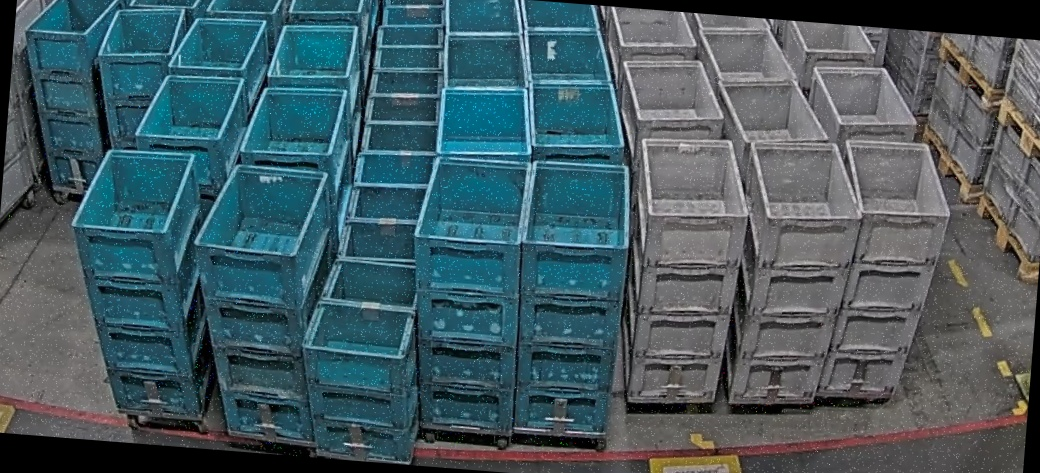4G: (721, 133, 869, 410), (815, 135, 957, 404), (618, 132, 756, 408)
B4: (55, 144, 230, 418), (179, 160, 341, 445), (396, 154, 536, 434), (504, 156, 638, 436), (88, 1, 190, 154)
B8: (291, 256, 433, 465)
